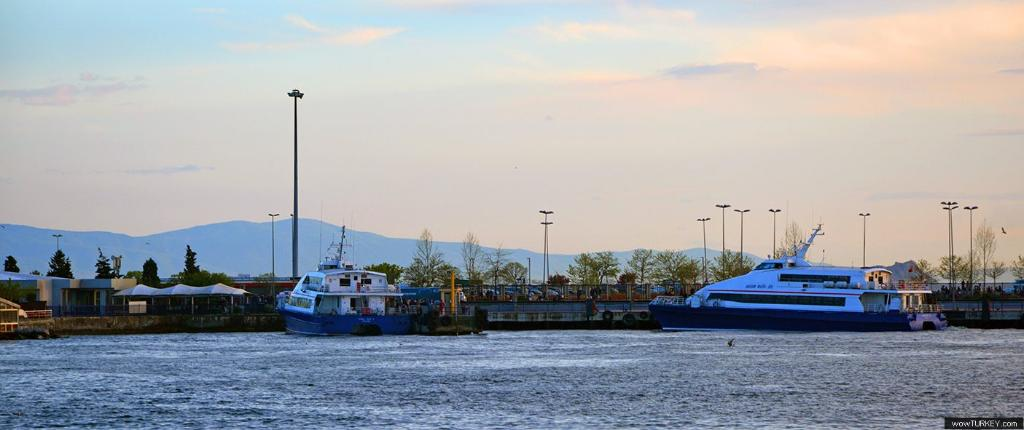PassengerShip: (640, 223, 956, 337), (273, 258, 421, 348)
